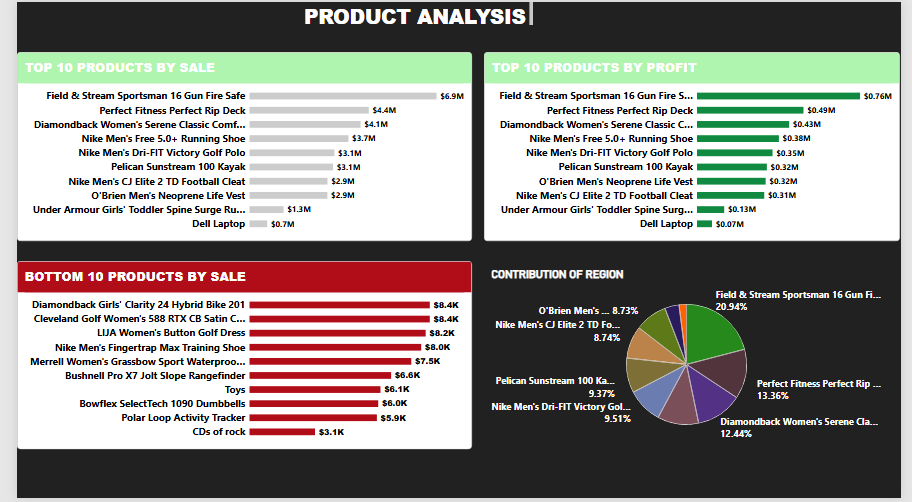

The page's visual inventory and layout, read from the dashboard file:
{"tool":"powerbi","page":{"name":"PRODUCT ANALYSIS","canvas":[1920,1080],"ordinal":2},"visuals":[{"type":"textbox","box":[623.9,0,497.8,63],"z":0},{"type":"clusteredBarChart","title":"TOP 10 PRODUCTS BY SALE","fields":{"Category":["Table1.Product Name"],"Y":["Table1.Total Sales"]},"box":[0,108.7,989.1,410.9],"z":1000},{"type":"clusteredBarChart","title":"TOP 10 PRODUCTS BY PROFIT","fields":{"Category":["Table1.Product Name"],"Y":["Table1.Total Profit"]},"box":[1015.2,108.7,904.3,410.9],"z":2000},{"type":"clusteredBarChart","title":"BOTTOM 10 PRODUCTS BY SALE","fields":{"Category":["Table1.Product Name"],"Y":["Table1.Total Sales"]},"box":[0,563,989.1,408.7],"z":3000},{"type":"pieChart","title":"CONTRIBUTION OF PRODUCTS","fields":{"Category":["Table1.Product Name"],"Y":["Table1.Total Sales"]},"box":[1015.2,563,880.4,408.7],"z":4000}]}

Visuals, with their boxes in screenshot pixels (x1, y1, x2, y2), scaled from the page's 1920x1080 canvas onto the 912x502 screenshot:
textbox: left=296, top=0, right=533, bottom=29
"TOP 10 PRODUCTS BY SALE" clusteredBarChart: left=0, top=51, right=470, bottom=242
"TOP 10 PRODUCTS BY PROFIT" clusteredBarChart: left=482, top=51, right=911, bottom=242
"BOTTOM 10 PRODUCTS BY SALE" clusteredBarChart: left=0, top=262, right=470, bottom=452
"CONTRIBUTION OF PRODUCTS" pieChart: left=482, top=262, right=900, bottom=452
